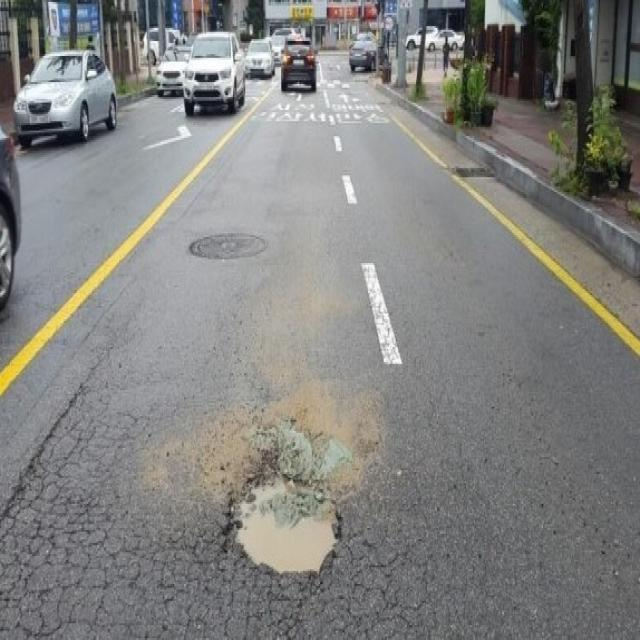pothole: (208, 460, 356, 595)
